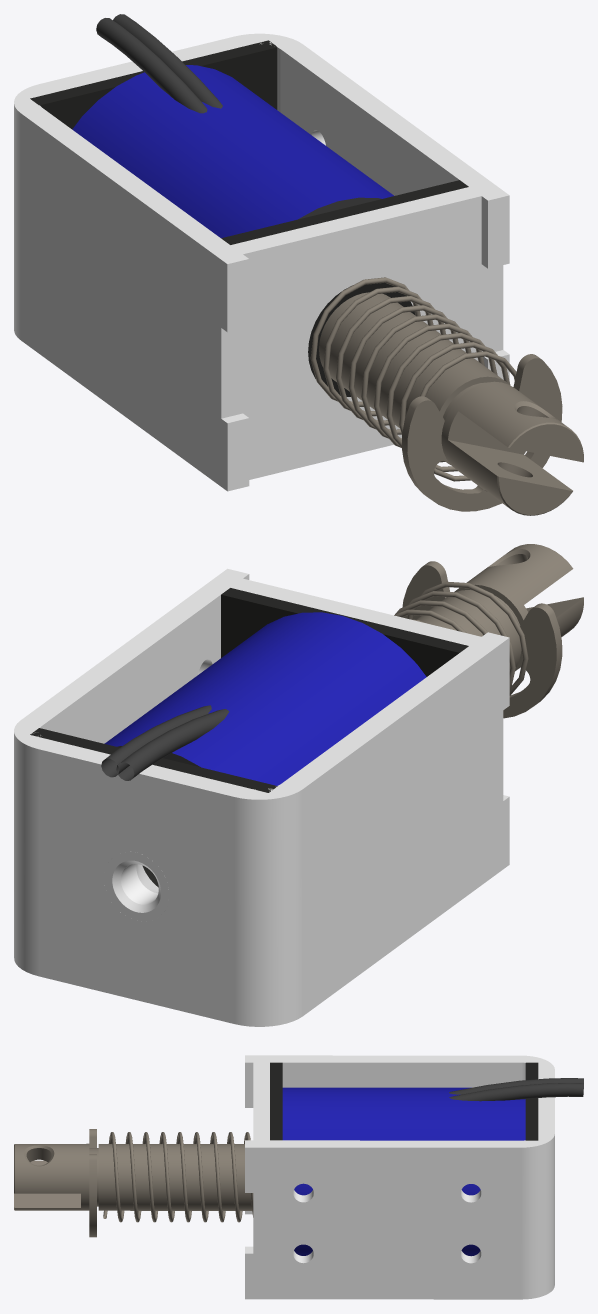
The model's file is Solenoid.fbx.
The picture shows the model from 3 angles, top to bottom: view 1: azimuth 30°, elevation 25°; view 2: azimuth 150°, elevation 25°; view 3: azimuth 270°, elevation 25°; orthographic projection. The views are drawn at different scales.
Parts seen in each view (by area): view 1: base, cover, coil, kern, Circle, frame, DIN 6799 - 7 8, BézierCurve.001, BézierCurve; view 2: base, coil, kern, frame, DIN 6799 - 7 8, cover, nut, Circle, BézierCurve.001, BézierCurve; view 3: base, kern, coil, Circle, cover, frame, BézierCurve, DIN 6799 - 7 8, BézierCurve.001.
Part boxes in pixels (x1=…): base: x1=14, y1=33, x2=509, y2=491; cover: x1=208, y1=187, x2=503, y2=479; coil: x1=72, y1=65, x2=393, y2=238; kern: x1=319, y1=292, x2=583, y2=515; Circle: x1=310, y1=277, x2=516, y2=481; frame: x1=30, y1=40, x2=468, y2=396; DIN 6799 - 7 8: x1=402, y1=354, x2=562, y2=511; BézierCurve.001: x1=96, y1=18, x2=207, y2=113; BézierCurve: x1=113, y1=14, x2=222, y2=108; base: x1=14, y1=568, x2=509, y2=1026; coil: x1=104, y1=612, x2=426, y2=785; kern: x1=416, y1=544, x2=583, y2=671; frame: x1=30, y1=588, x2=468, y2=887; DIN 6799 - 7 8: x1=402, y1=561, x2=562, y2=718; cover: x1=230, y1=578, x2=503, y2=809; nut: x1=104, y1=851, x2=169, y2=921; Circle: x1=394, y1=581, x2=528, y2=695; BézierCurve.001: x1=116, y1=709, x2=229, y2=780; BézierCurve: x1=101, y1=705, x2=211, y2=777; base: x1=245, y1=1055, x2=554, y2=1299; kern: x1=14, y1=1143, x2=252, y2=1210; coil: x1=282, y1=1087, x2=525, y2=1256; Circle: x1=103, y1=1132, x2=253, y2=1222; cover: x1=253, y1=1062, x2=269, y2=1253; frame: x1=270, y1=1062, x2=538, y2=1140; BézierCurve: x1=449, y1=1083, x2=583, y2=1101; DIN 6799 - 7 8: x1=89, y1=1129, x2=96, y2=1237; BézierCurve.001: x1=449, y1=1078, x2=583, y2=1094.
Size of the model in its own units: 2.6 by 2.34 by 6.8.
